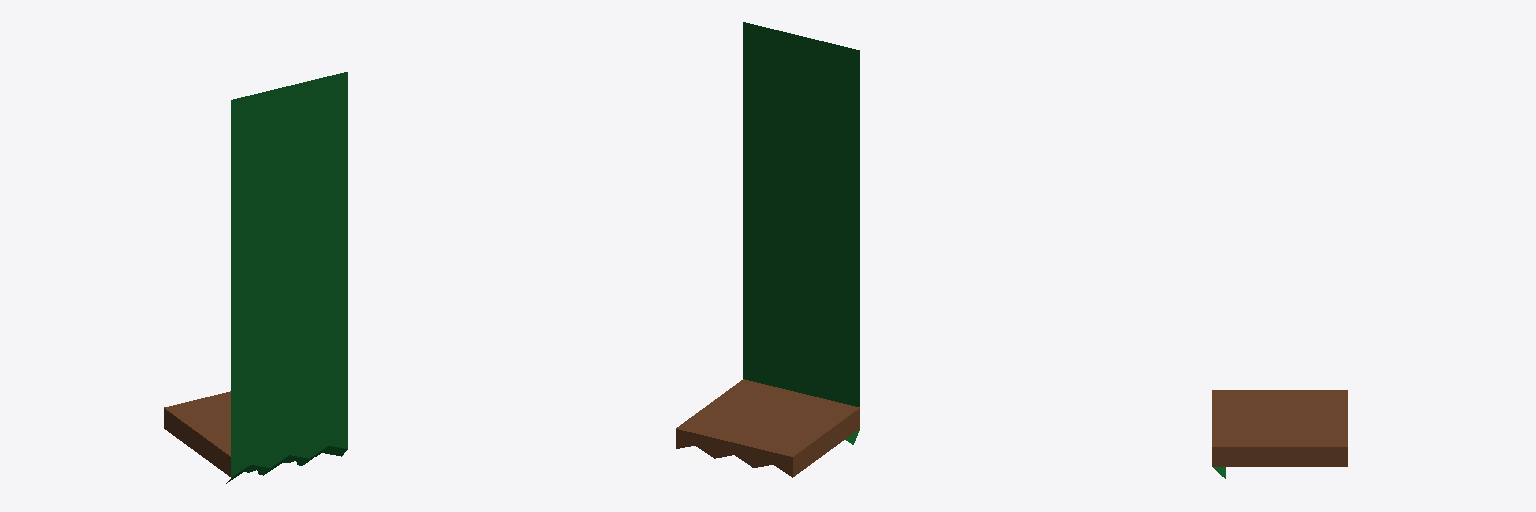
The model's file is cliff_top_plane.obj.
3 views of the same model, side by side, from view 1: azimuth 30°, elevation 25°; view 2: azimuth 150°, elevation 25°; view 3: azimuth 270°, elevation 25° (orthographic).
Parts seen in each view (by area): view 1: Plane, cliff_top_rock; view 2: Plane, cliff_top_rock; view 3: cliff_top_rock.
Boxes of the visible parts, <box> form: Plane: <box>231,72,347,468</box>; cliff_top_rock: <box>164,391,347,483</box>; Plane: <box>743,22,859,406</box>; cliff_top_rock: <box>676,379,859,477</box>; cliff_top_rock: <box>1212,390,1347,478</box>.
Size of the model in its own units: 1 by 3.18 by 1.